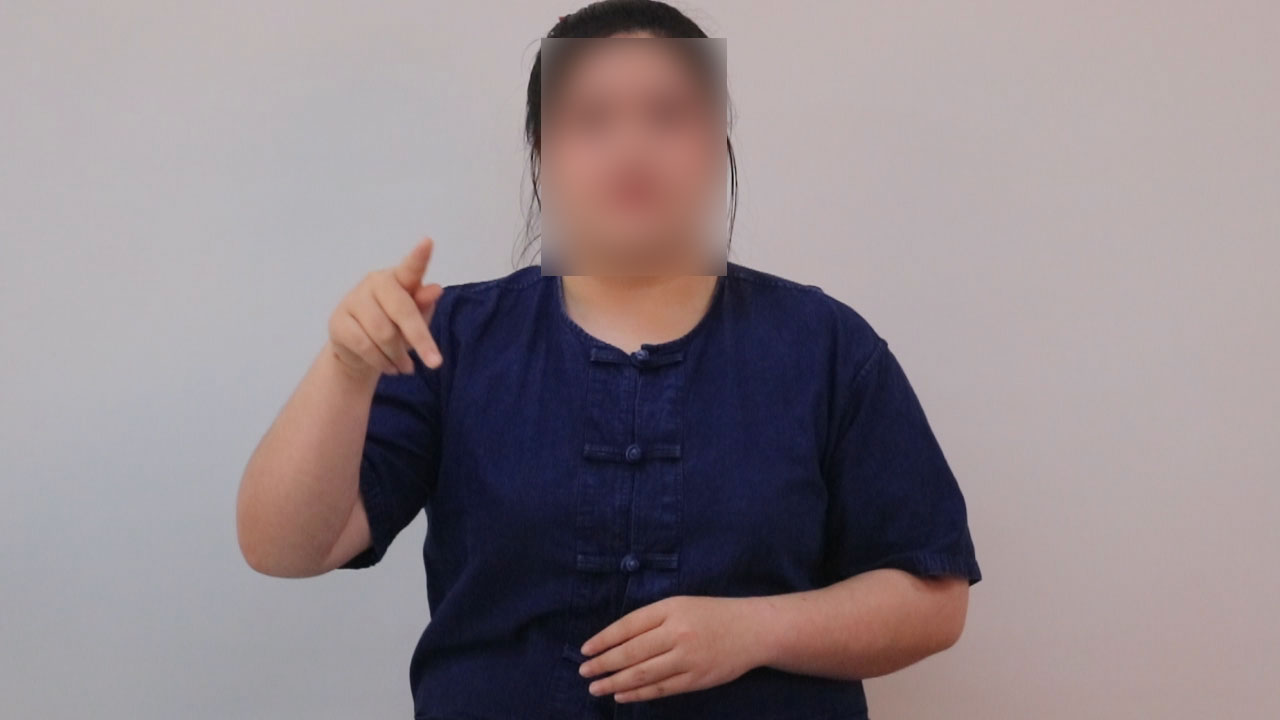por: (306, 217, 461, 386)
